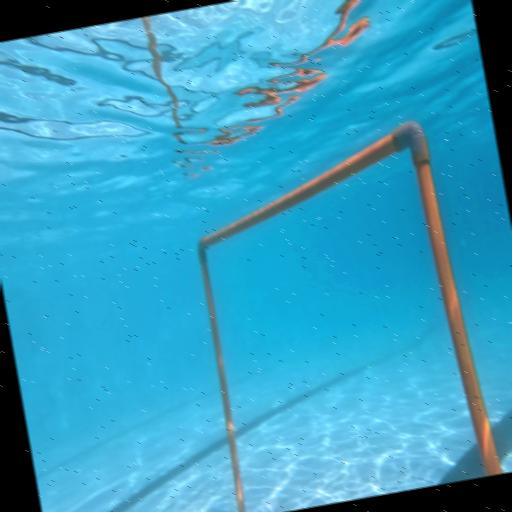gate: (174, 113, 502, 512)
